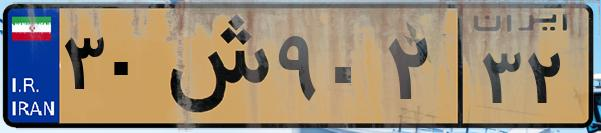0: (330, 28, 385, 110), (110, 28, 158, 98)
2: (385, 28, 445, 110), (525, 38, 570, 115)
3: (57, 26, 110, 100), (475, 38, 525, 113)
9: (270, 28, 330, 110)
ش: (158, 12, 270, 120)
